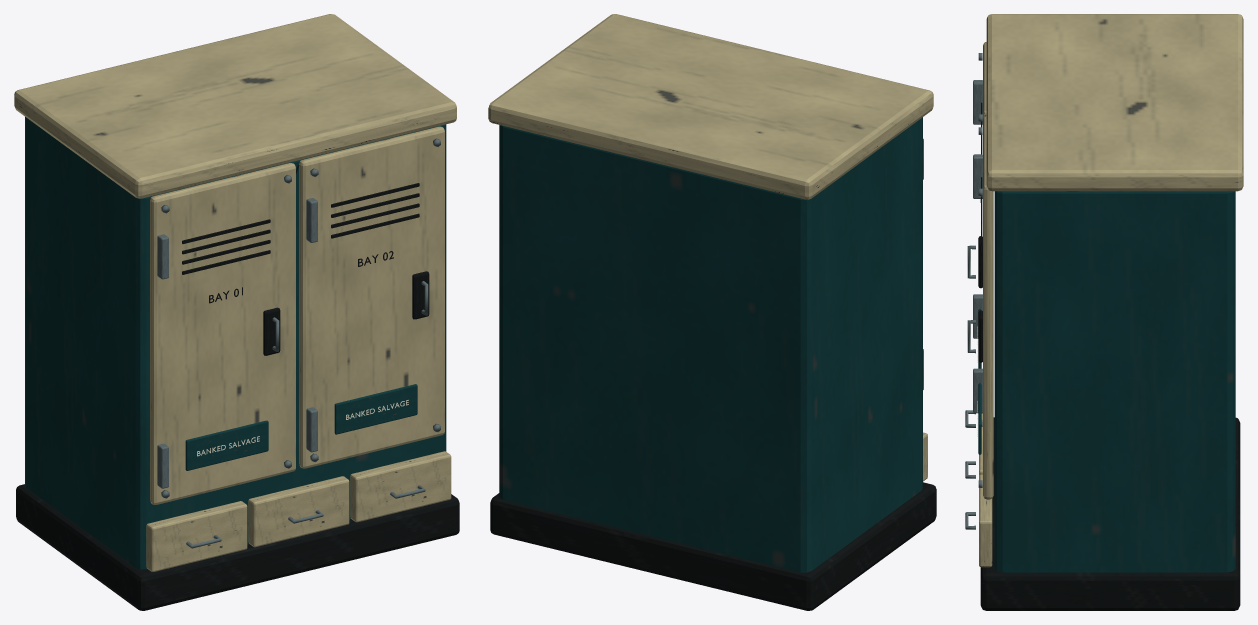
File: marrow-stash-cabinet.glb
The picture shows the model from 3 angles, left to right: view 1: azimuth 30°, elevation 25°; view 2: azimuth 150°, elevation 25°; view 3: azimuth 270°, elevation 25°; orthographic projection. The views are drawn at different scales.
Parts seen in each view (by area): view 1: marrow-stash-cabinet | Aged ivory enamel, marrow-stash-cabinet | Petrol enamel, marrow-stash-cabinet | Cast graphite iron, marrow-stash-cabinet | Machined steel; view 2: marrow-stash-cabinet | Petrol enamel, marrow-stash-cabinet | Aged ivory enamel, marrow-stash-cabinet | Cast graphite iron; view 3: marrow-stash-cabinet | Petrol enamel, marrow-stash-cabinet | Aged ivory enamel, marrow-stash-cabinet | Cast graphite iron, marrow-stash-cabinet | Machined steel.
Part boxes in pixels (x1,y1,x2,y2): marrow-stash-cabinet | Aged ivory enamel: [14, 14, 456, 571]; marrow-stash-cabinet | Petrol enamel: [25, 117, 446, 569]; marrow-stash-cabinet | Cast graphite iron: [16, 165, 459, 610]; marrow-stash-cabinet | Machined steel: [157, 138, 440, 548]; marrow-stash-cabinet | Petrol enamel: [499, 117, 922, 572]; marrow-stash-cabinet | Aged ivory enamel: [488, 14, 933, 481]; marrow-stash-cabinet | Cast graphite iron: [490, 482, 936, 610]; marrow-stash-cabinet | Petrol enamel: [978, 191, 1235, 572]; marrow-stash-cabinet | Aged ivory enamel: [979, 14, 1243, 567]; marrow-stash-cabinet | Cast graphite iron: [978, 102, 1240, 610]; marrow-stash-cabinet | Machined steel: [965, 53, 982, 529].
Bounding box in the file's own units: 1.64 × 2.1 × 1.2.
Materials: 5 (4 with a texture image).
